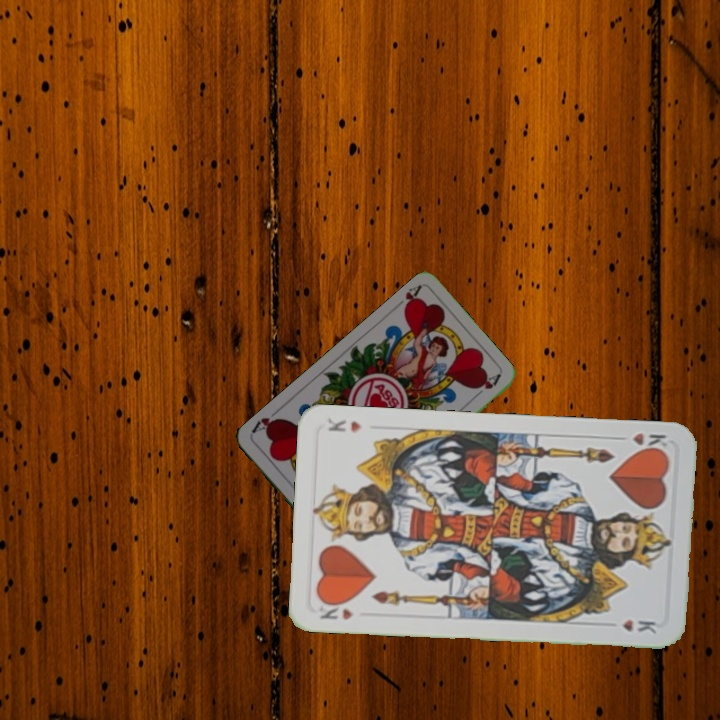HA: (389, 281, 424, 314)
HK: (628, 429, 671, 455), (316, 597, 356, 622)
